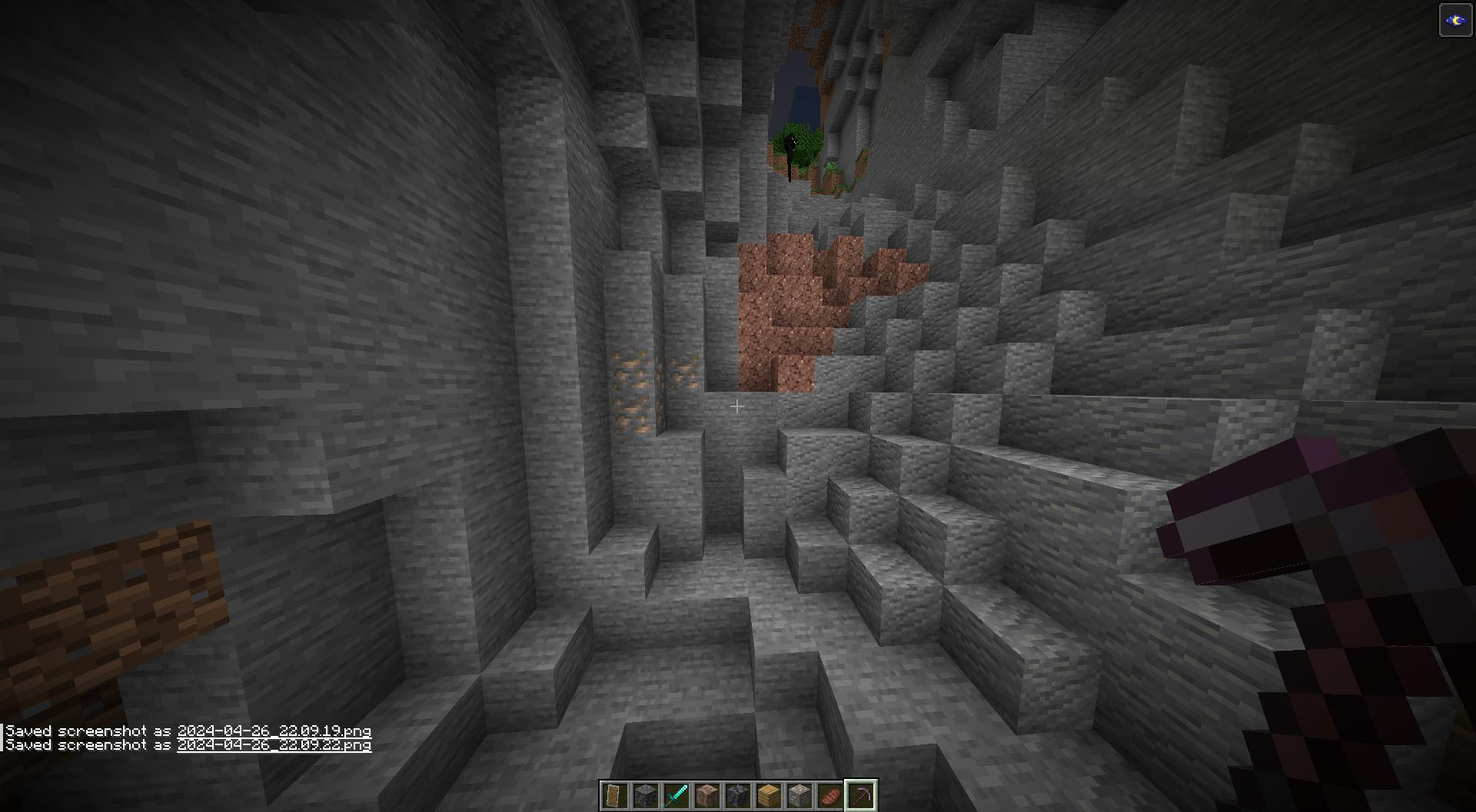iron ore: (611, 388, 668, 438), (608, 349, 660, 392), (659, 353, 705, 392)
